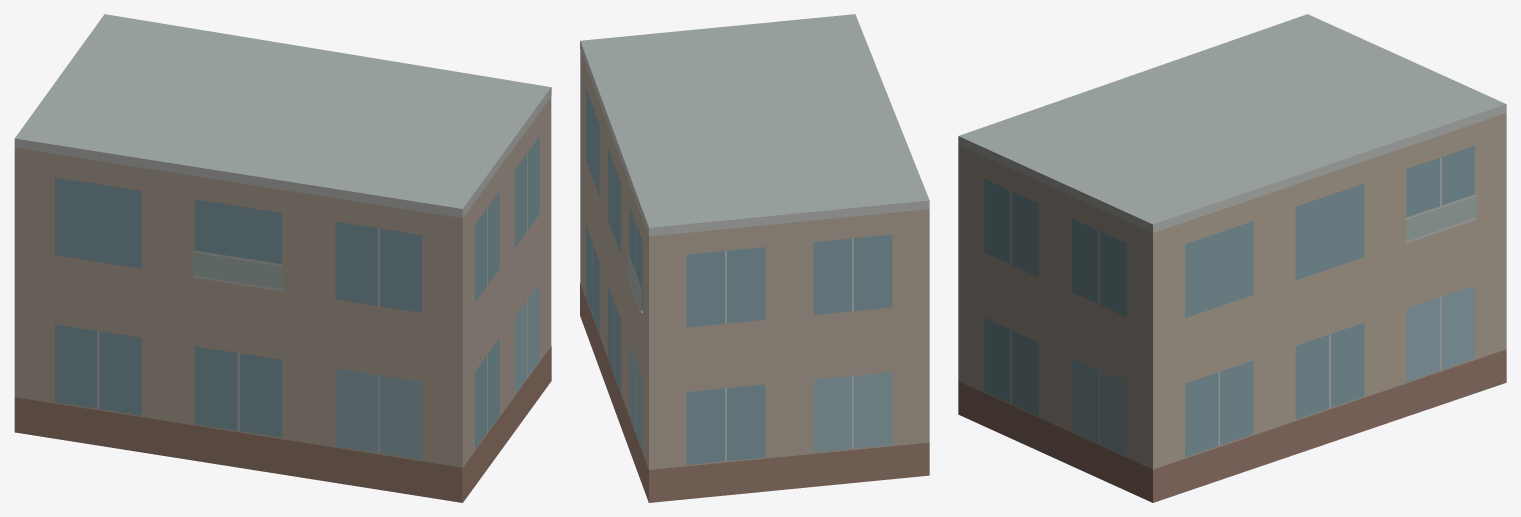
File: survey-upis-32624895.glb
3 renders of one model, left to right at view 1: azimuth 30°, elevation 25°; view 2: azimuth 150°, elevation 25°; view 3: azimuth 270°, elevation 25°, orthographic. The views are drawn at different scales.
Parts seen in each view (by area): view 1: survey-upis-32624895.tmp; view 2: survey-upis-32624895.tmp; view 3: survey-upis-32624895.tmp.
Boxes of the visible parts, x1,y1,x2,y2 form: survey-upis-32624895.tmp: (14,14,551,502); survey-upis-32624895.tmp: (580,14,929,502); survey-upis-32624895.tmp: (958,14,1506,502).
Size of the model in its own units: 12.65 by 7.8 by 13.93.
